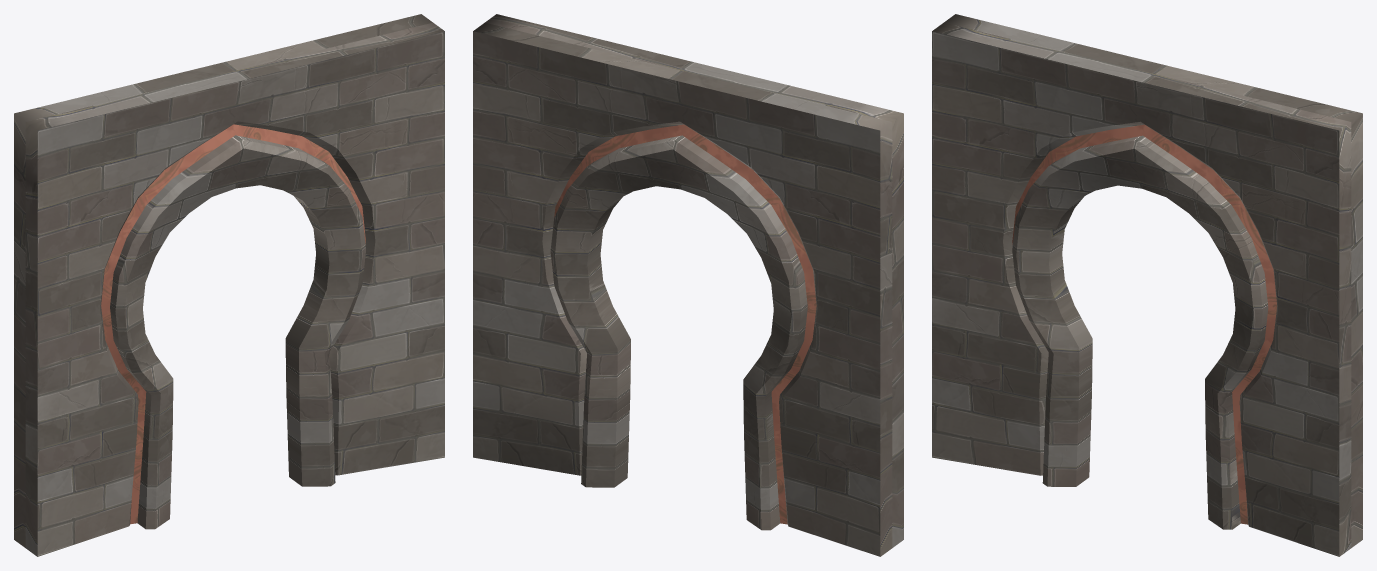
File: wall_doorway_eastern_1.fbx
3 views of the same model, side by side, from view 1: azimuth 30°, elevation 25°; view 2: azimuth 150°, elevation 25°; view 3: azimuth 330°, elevation 25° (orthographic).
Visible parts, largest first — view 1: doorway_eastern_1:outer, doorway_eastern_1:center, doorway_eastern_1:trim; view 2: doorway_eastern_1:outer, doorway_eastern_1:center, doorway_eastern_1:trim; view 3: doorway_eastern_1:outer, doorway_eastern_1:center, doorway_eastern_1:trim.
Part boxes in pixels (x1,y1,x2,y2): doorway_eastern_1:outer: [14, 14, 444, 556]; doorway_eastern_1:center: [110, 135, 365, 529]; doorway_eastern_1:trim: [101, 124, 365, 524]; doorway_eastern_1:outer: [473, 14, 903, 556]; doorway_eastern_1:center: [550, 135, 807, 530]; doorway_eastern_1:trim: [554, 124, 816, 524]; doorway_eastern_1:outer: [932, 14, 1362, 556]; doorway_eastern_1:center: [1012, 135, 1268, 529]; doorway_eastern_1:trim: [1012, 124, 1277, 524].
Size of the model in its own units: 5 by 5 by 0.6038.
